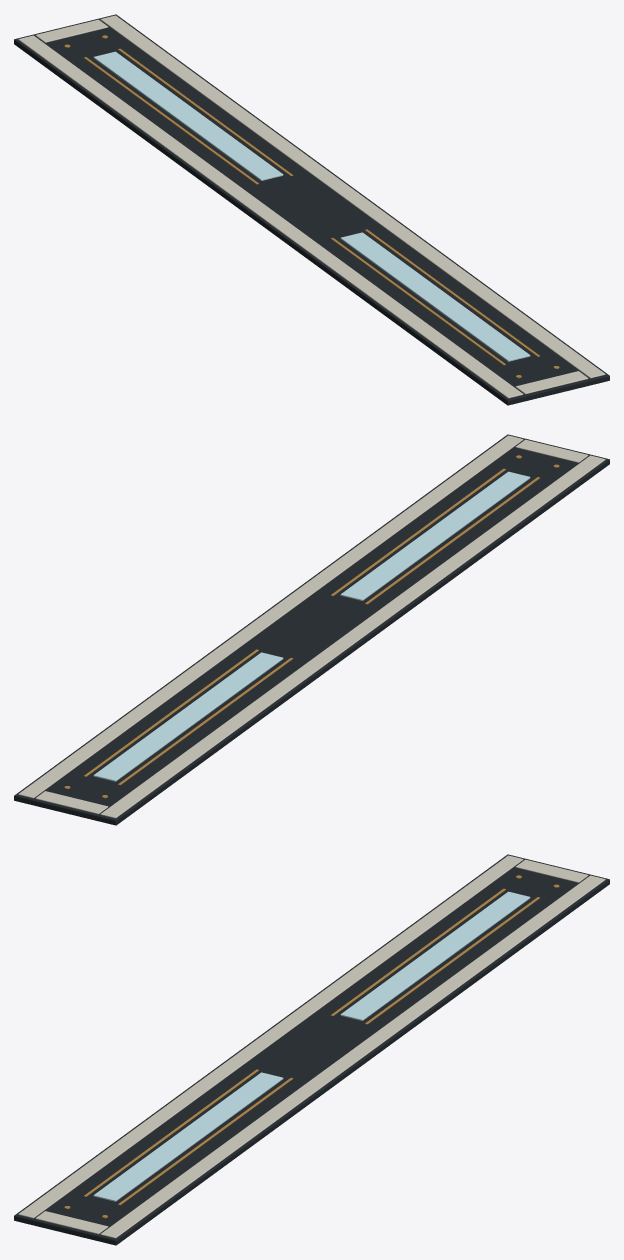
Rendered from SM_Aurelion_KIT_Z03RouteRegister.fbx.
3 views of the same model, one above another, from view 1: azimuth 30°, elevation 25°; view 2: azimuth 150°, elevation 25°; view 3: azimuth 330°, elevation 25° (orthographic).
Parts seen in each view (by area): view 1: SM_Aurelion_KIT_Z03RouteRegister; view 2: SM_Aurelion_KIT_Z03RouteRegister; view 3: SM_Aurelion_KIT_Z03RouteRegister.
Part boxes in pixels (left/top/right/bottom): SM_Aurelion_KIT_Z03RouteRegister: left=14, top=14, right=609, bottom=405; SM_Aurelion_KIT_Z03RouteRegister: left=14, top=434, right=609, bottom=825; SM_Aurelion_KIT_Z03RouteRegister: left=14, top=854, right=609, bottom=1245.
Size of the model in its own units: 12 by 100 by 0.75.
